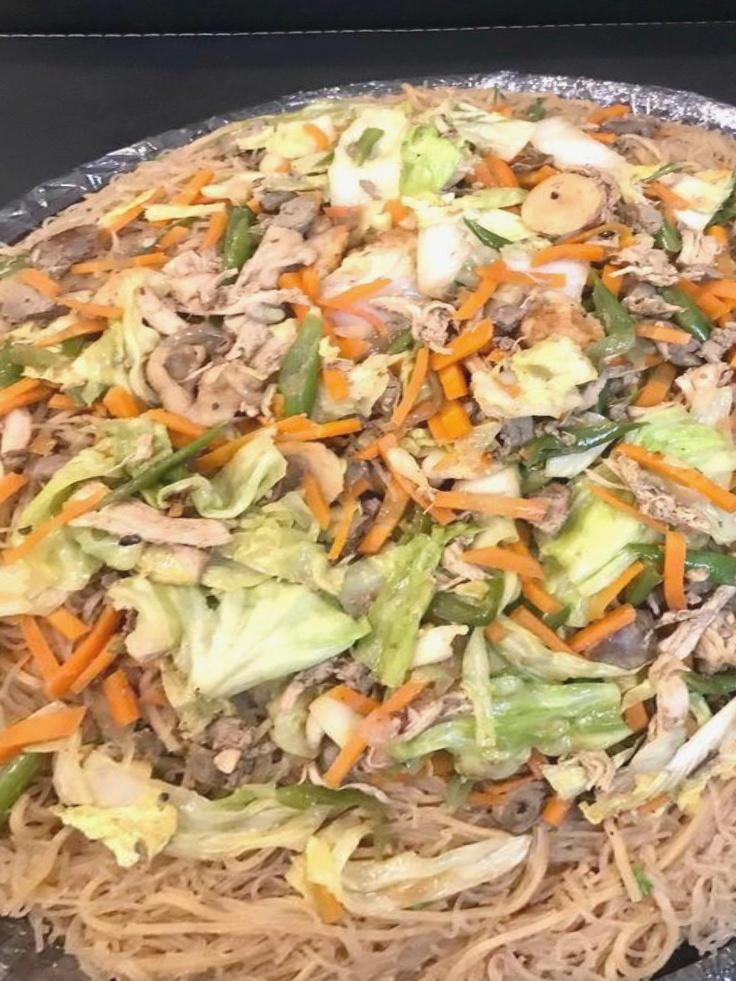pancit bihon: (0, 102, 735, 980)
